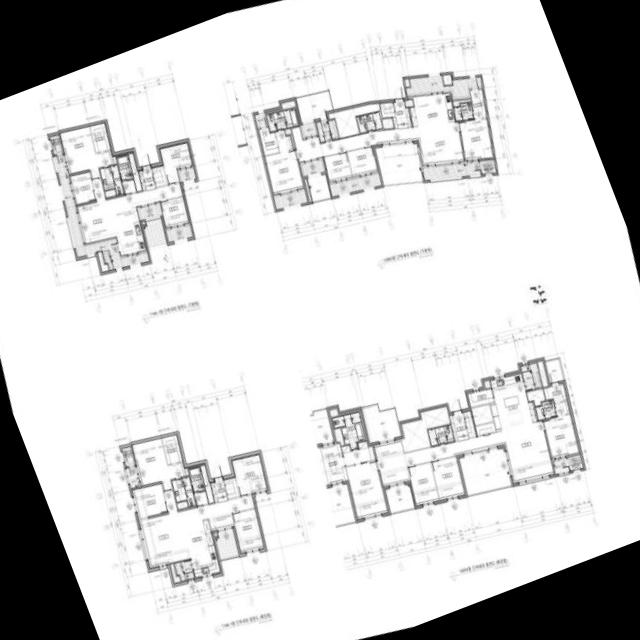background: (0, 0, 640, 640)
space_balconi: (54, 155, 149, 270), (459, 448, 512, 495), (375, 144, 423, 185), (406, 76, 482, 98), (362, 405, 402, 443), (330, 174, 382, 197), (297, 92, 333, 122), (423, 162, 481, 180), (386, 484, 415, 513), (274, 190, 308, 210), (216, 531, 239, 560), (144, 219, 167, 248), (308, 174, 331, 201), (521, 363, 542, 391), (317, 120, 339, 142), (166, 225, 193, 242), (175, 560, 195, 581), (546, 360, 564, 383), (302, 160, 324, 176), (139, 205, 161, 220), (127, 466, 139, 488), (553, 459, 569, 474), (179, 168, 196, 182), (302, 122, 317, 137), (255, 113, 267, 127)
space_bedroom: (60, 127, 114, 179), (132, 439, 186, 491), (265, 130, 304, 194), (346, 461, 388, 519), (544, 401, 579, 458), (232, 454, 268, 496), (232, 509, 265, 553), (432, 457, 465, 500), (160, 142, 193, 184), (460, 119, 493, 160), (408, 463, 439, 505), (133, 484, 168, 519), (348, 147, 378, 177), (161, 197, 190, 228), (70, 172, 96, 205), (325, 153, 352, 182)
space_dressroom: (317, 443, 348, 485), (162, 435, 183, 465), (90, 123, 111, 153), (259, 128, 279, 155), (470, 89, 487, 119), (544, 384, 567, 403)
space_front: (450, 413, 469, 441), (393, 102, 412, 129), (139, 167, 156, 191), (211, 481, 228, 503)
space_kitchen: (490, 374, 537, 431), (184, 520, 220, 577), (112, 208, 146, 256), (408, 93, 455, 126)
space_living_room: (374, 421, 554, 486), (140, 490, 255, 568), (292, 122, 464, 165), (76, 178, 183, 246)
space_other: (402, 407, 450, 452), (329, 104, 380, 138), (342, 441, 375, 466), (129, 153, 142, 192), (201, 465, 214, 503), (468, 389, 494, 407), (209, 513, 234, 531), (472, 404, 493, 425), (152, 165, 167, 187), (527, 389, 546, 406), (224, 478, 239, 499), (464, 411, 476, 437), (538, 361, 548, 387), (476, 423, 496, 436), (380, 103, 395, 118), (98, 252, 109, 272), (170, 564, 181, 584), (122, 180, 136, 195), (334, 428, 345, 446), (194, 492, 208, 506), (285, 129, 295, 148), (305, 179, 312, 202), (382, 118, 394, 129), (282, 101, 296, 110), (453, 100, 471, 106), (105, 189, 116, 198), (443, 75, 452, 85), (330, 409, 338, 417), (405, 100, 414, 107), (484, 381, 491, 388), (405, 79, 410, 87), (113, 155, 117, 164), (185, 468, 189, 476), (214, 533, 217, 537), (143, 222, 145, 225)
space_outdoor_room: (50, 135, 63, 155), (122, 447, 135, 467), (568, 454, 583, 471), (480, 159, 497, 174)
space_toilet: (333, 413, 365, 450), (172, 477, 196, 509), (267, 109, 299, 132), (100, 165, 124, 195), (428, 425, 454, 446), (357, 112, 383, 133), (536, 400, 557, 420), (117, 155, 133, 181), (189, 467, 205, 492), (454, 103, 474, 121)
